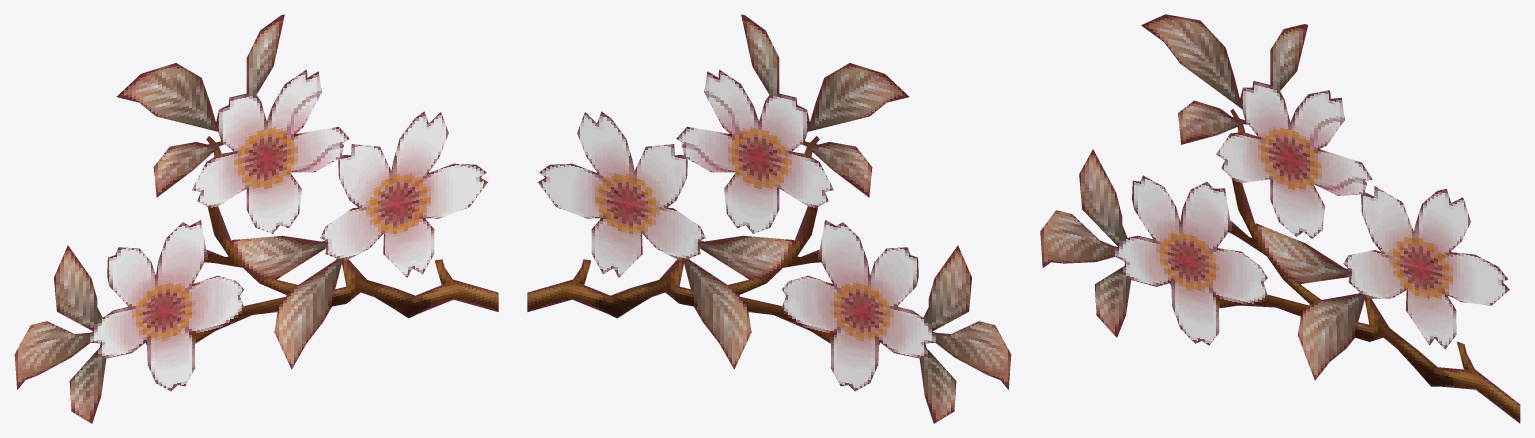
Rendered from ps2_save-icons_hakuokizuisouroku.glb.
3 renders of one model, left to right at view 1: azimuth 30°, elevation 25°; view 2: azimuth 150°, elevation 25°; view 3: azimuth 330°, elevation 25°, orthographic.
Visible parts, largest first — view 1: SAVE.ICO; view 2: SAVE.ICO; view 3: SAVE.ICO.
Boxes of the visible parts, x1,y1,x2,y2 form: SAVE.ICO: [14, 14, 498, 423]; SAVE.ICO: [527, 14, 1011, 423]; SAVE.ICO: [1040, 14, 1520, 423].
Bounding box in the file's own units: 3.56 × 2.55 × 0.00488.
Materials: 1 (1 with a texture image).
